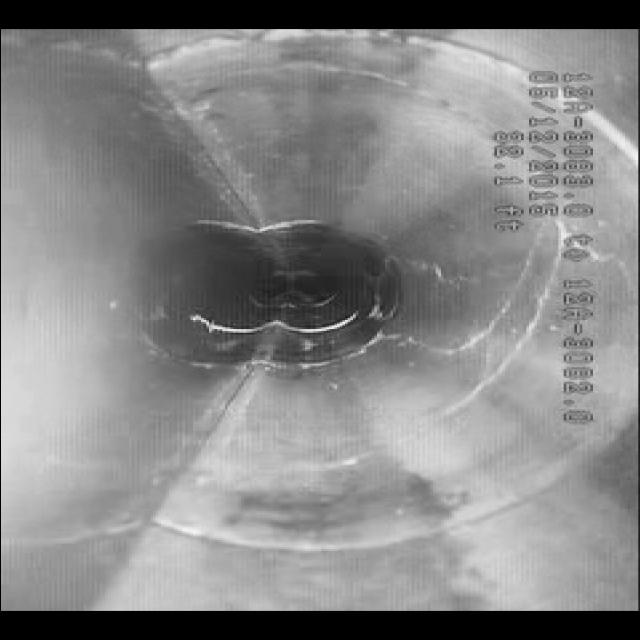Fracture: (413, 292, 554, 400)
